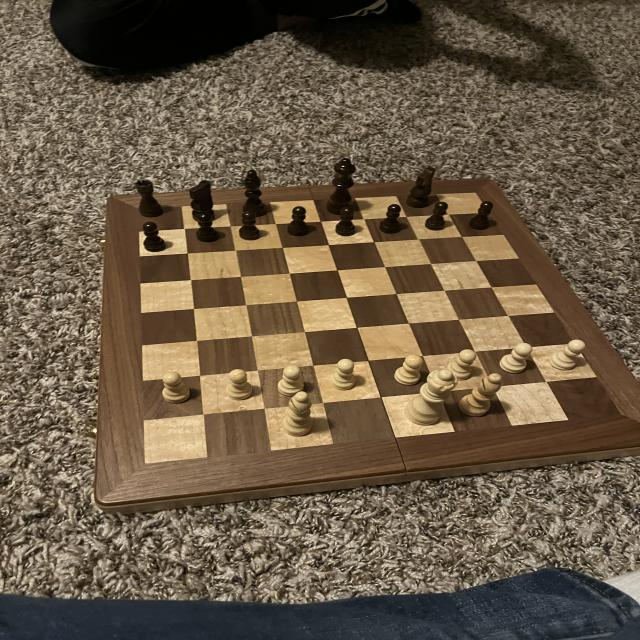bishop: (238, 169, 270, 219)
black-bishop: (327, 157, 357, 216)
black-king: (186, 178, 220, 222), (405, 163, 436, 211)
black-knight: (193, 211, 224, 245), (237, 208, 264, 243), (423, 201, 452, 232), (286, 205, 313, 238), (376, 203, 403, 236), (467, 200, 494, 233), (142, 220, 168, 253), (334, 207, 360, 237)
black-queen: (133, 178, 168, 218)
black-rook: (458, 372, 506, 417), (282, 390, 314, 438)
white-knight: (498, 342, 536, 376), (548, 337, 584, 372), (223, 368, 256, 402), (446, 348, 479, 382), (275, 364, 308, 397), (392, 353, 424, 386), (160, 370, 191, 404), (329, 358, 359, 391)
white-pawn: (400, 367, 460, 427)
